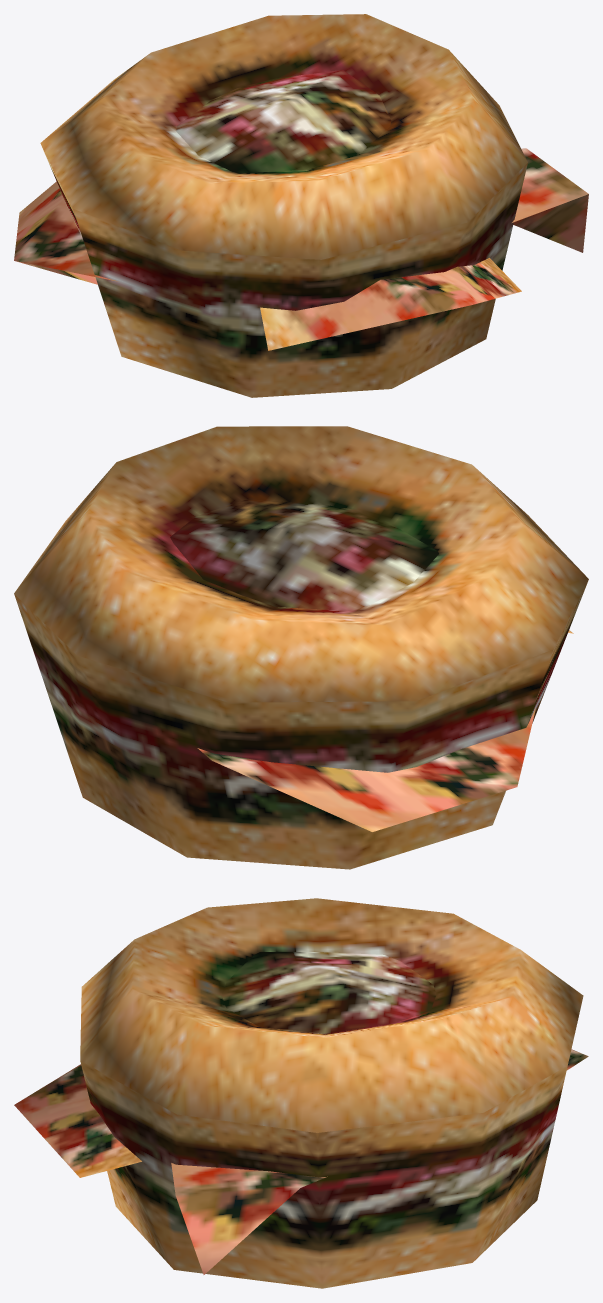
The model's file is edb_food_sandwich_s1_l1.fbx.
3 renders of one model, top to bottom at view 1: azimuth 30°, elevation 25°; view 2: azimuth 150°, elevation 25°; view 3: azimuth 270°, elevation 25°, orthographic. The views are drawn at different scales.
Visible parts, largest first — view 1: mesh_node; view 2: mesh_node; view 3: mesh_node.
Part boxes in pixels (bbox=[...]): mesh_node: bbox=[14, 14, 588, 397]; mesh_node: bbox=[14, 426, 588, 869]; mesh_node: bbox=[14, 898, 588, 1288].
Bounding box in the file's own units: 0.2174 × 0.1049 × 0.2147.
1 material, 1 textured.
